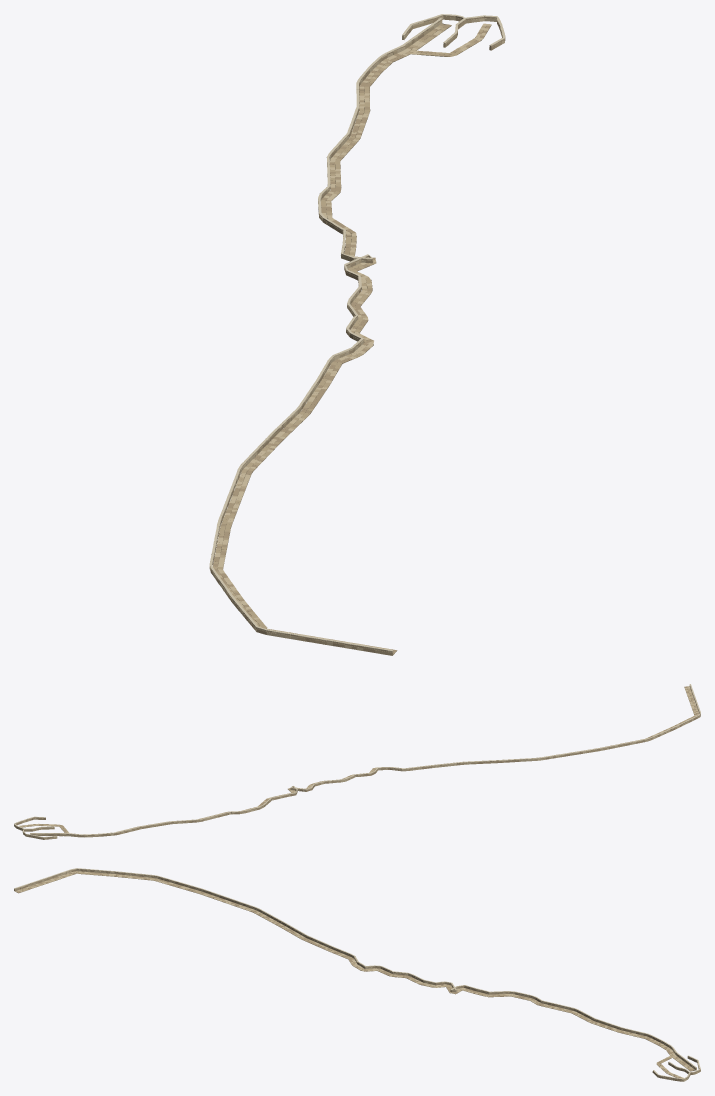
File: mirador-colomer.glb
3 renders of one model, top to bottom at view 1: azimuth 30°, elevation 25°; view 2: azimuth 150°, elevation 25°; view 3: azimuth 270°, elevation 25°, orthographic. The views are drawn at different scales.
Parts seen in each view (by area): view 1: mirador-colomer; view 2: mirador-colomer; view 3: mirador-colomer.
Boxes of the visible parts, left/top/right/bottom form: mirador-colomer: left=209, top=14, right=505, bottom=655; mirador-colomer: left=14, top=684, right=700, bottom=839; mirador-colomer: left=14, top=868, right=700, bottom=1081.
Bounding box in the file's own units: 172 × 0.991 × 236.
